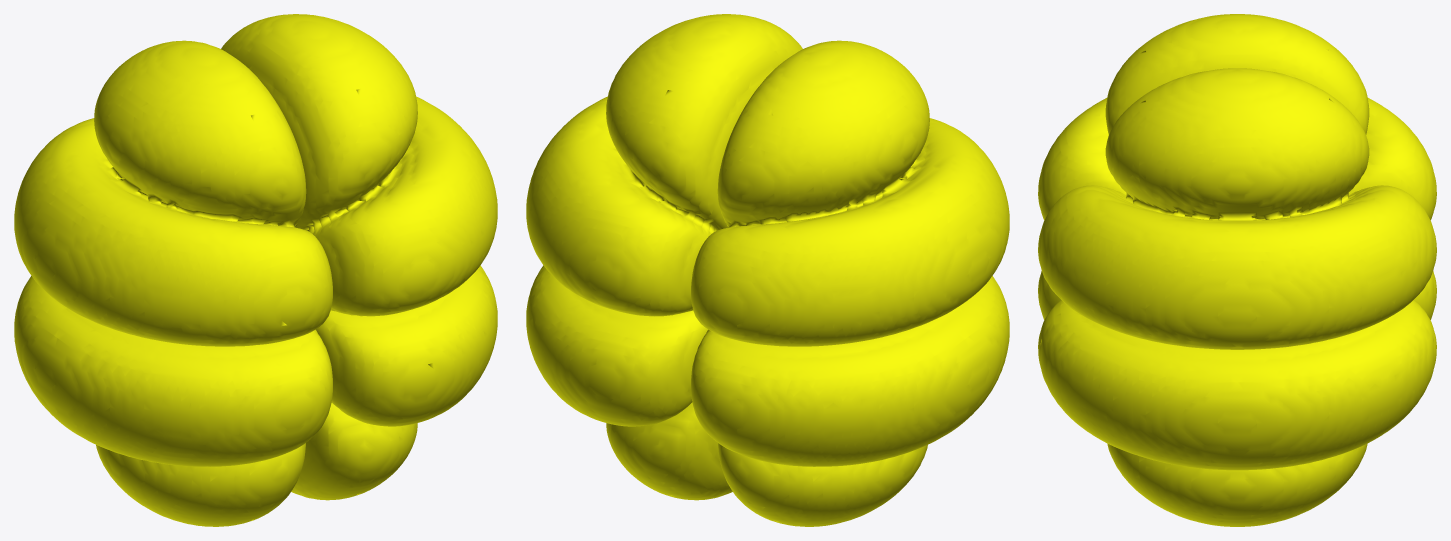
Rendered from orb_n=7_ l=4 _m=1.fbx.
3 views of the same model, side by side, from view 1: azimuth 30°, elevation 25°; view 2: azimuth 150°, elevation 25°; view 3: azimuth 270°, elevation 25° (orthographic). The views are drawn at different scales.
Parts seen in each view (by area): view 1: orb_n=7_ l=4 _m=1; view 2: orb_n=7_ l=4 _m=1; view 3: orb_n=7_ l=4 _m=1.
Boxes of the visible parts, x1,y1,x2,y2 form: orb_n=7_ l=4 _m=1: (14, 14, 497, 526); orb_n=7_ l=4 _m=1: (526, 14, 1009, 526); orb_n=7_ l=4 _m=1: (1038, 14, 1436, 526).
Size of the model in its own units: 24115 by 24859 by 20310.
